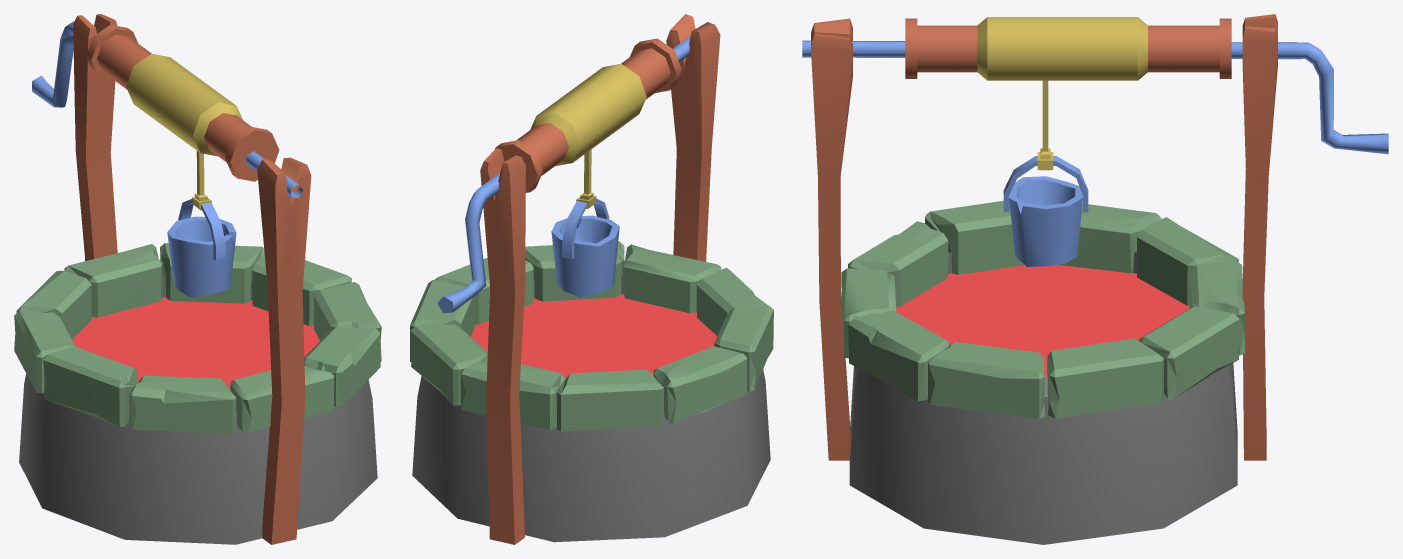
Rendered from SM_Well.fbx.
3 views of the same model, side by side, from view 1: azimuth 30°, elevation 25°; view 2: azimuth 150°, elevation 25°; view 3: azimuth 270°, elevation 25° (orthographic). The views are drawn at different scales.
Parts seen in each view (by area): view 1: Cylinder001; view 2: Cylinder001; view 3: Cylinder001.
Part boxes in pixels (bbox=[...]): Cylinder001: bbox=[14, 14, 381, 544]; Cylinder001: bbox=[410, 14, 773, 544]; Cylinder001: bbox=[802, 14, 1388, 544].
Size of the model in its own units: 195 by 226 by 275.
